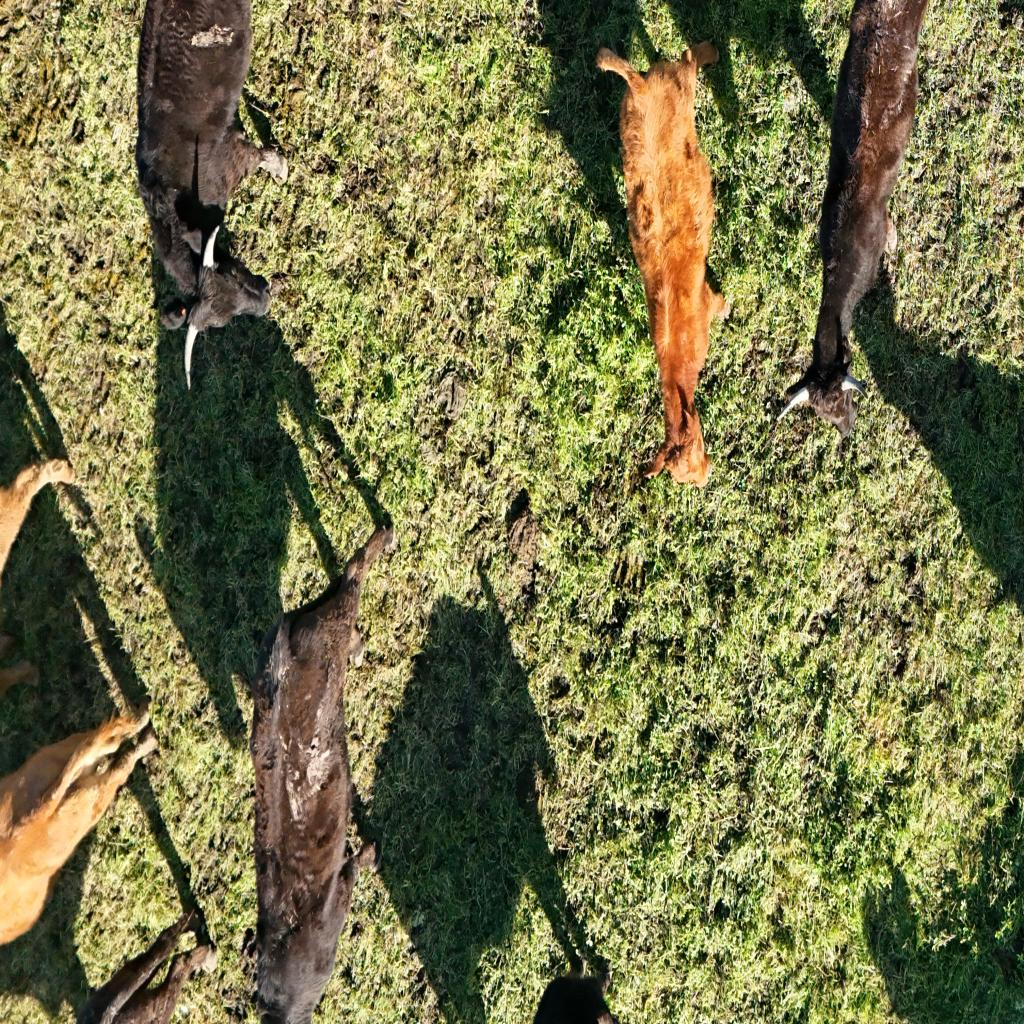cow: (244, 527, 392, 1015), (593, 27, 734, 488), (788, 0, 926, 440), (134, 2, 287, 392)
